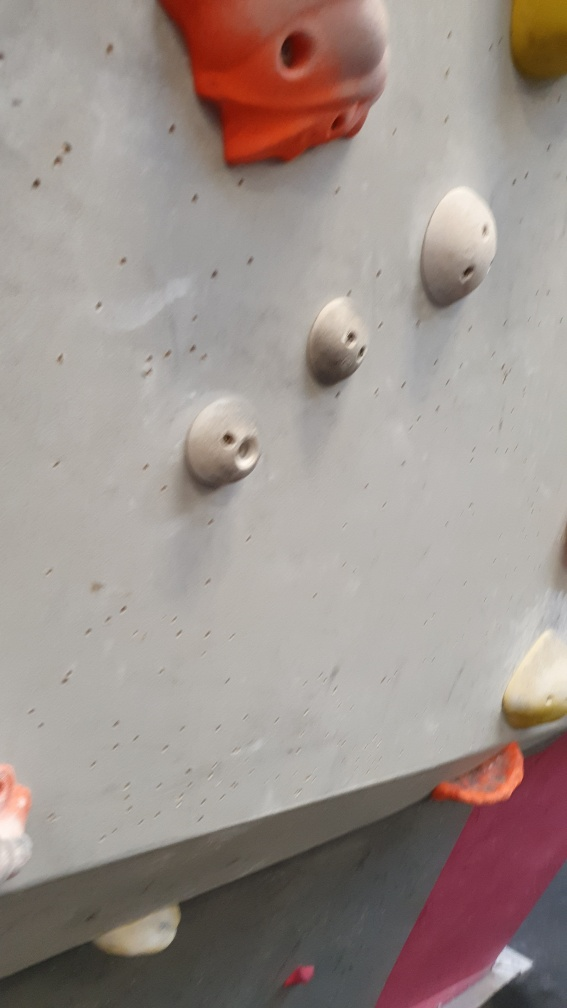Jug: (155, 1, 395, 175), (430, 735, 528, 810)
Sloper: (414, 184, 502, 312), (180, 392, 269, 493), (305, 294, 371, 388)
